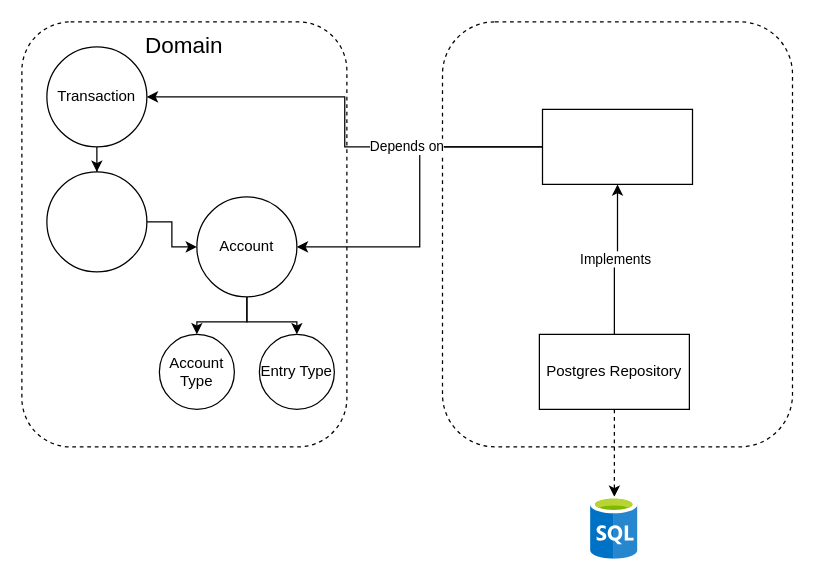
The diagram is 815 pixels wide and 581 high, and some of its shapes have lost their labels. The shapes that lost their labels are listed below. From the top down, each one's box as (x1, y1, x2, y2) in pixels, then its label:
(541, 108, 692, 184): Abstract Repository
(46, 171, 147, 272): Transaction Line
(441, 21, 792, 447): Adapters
